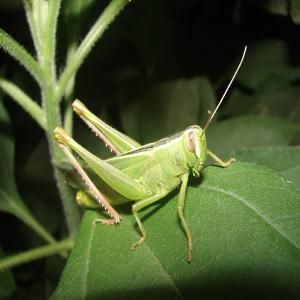locust: (50, 76, 241, 236)
